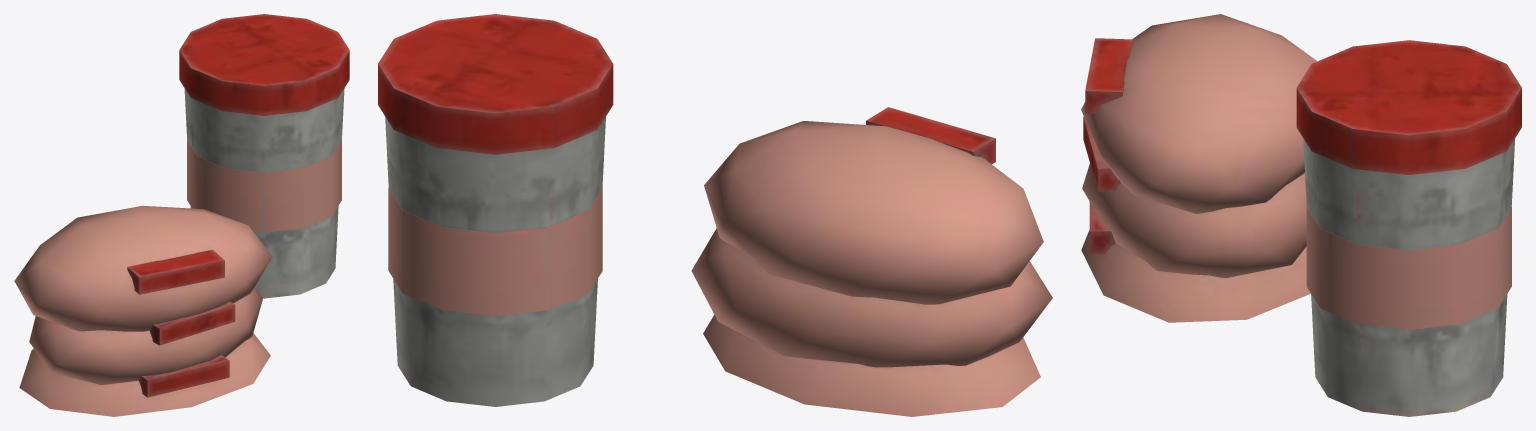
File: protein.glb
3 views of the same model, side by side, from view 1: azimuth 30°, elevation 25°; view 2: azimuth 150°, elevation 25°; view 3: azimuth 270°, elevation 25° (orthographic). The views are drawn at different scales.
Parts seen in each view (by area): view 1: te_res_protein; view 2: te_res_protein; view 3: te_res_protein.
Boxes of the visible parts, bbox=[...] form: te_res_protein: bbox=[14, 14, 349, 416]; te_res_protein: bbox=[378, 14, 1052, 416]; te_res_protein: bbox=[1081, 14, 1521, 416].
Bounding box in the file's own units: 0.4701 × 0.255 × 0.352.
1 material, 1 textured.
